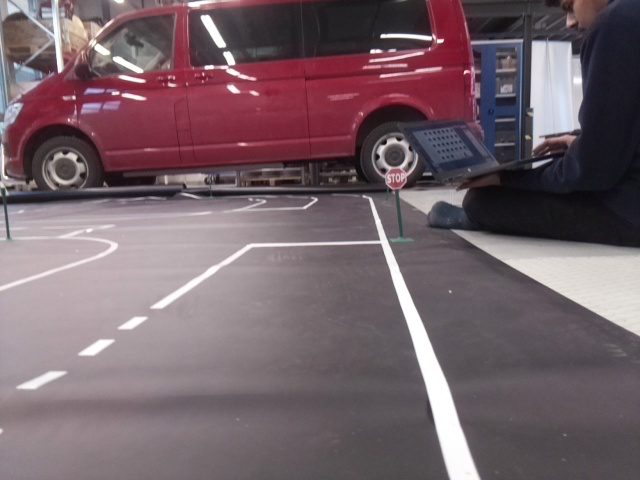Stop: (384, 167, 405, 189)
